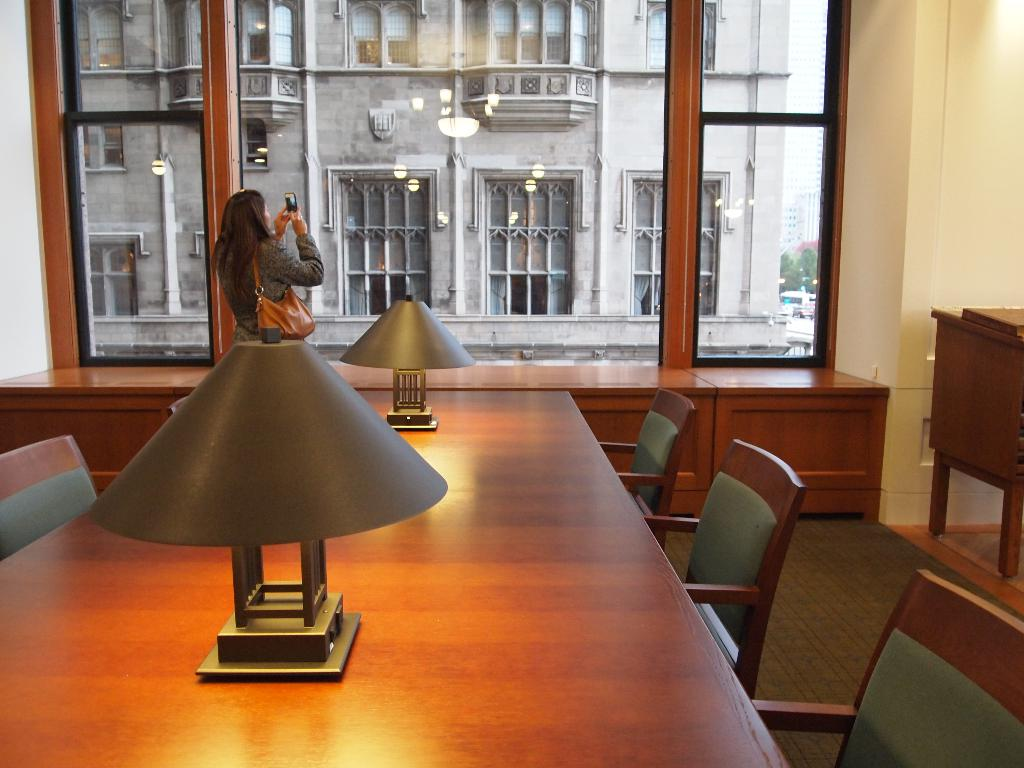Window: (624, 166, 732, 319), (329, 163, 435, 315), (476, 176, 580, 315), (456, 1, 604, 98), (328, 0, 420, 73), (640, 0, 731, 70), (86, 233, 140, 321)
